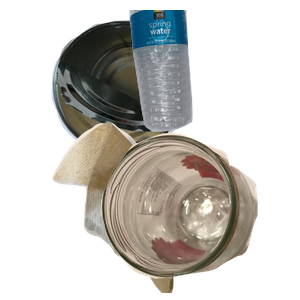glass: (98, 131, 300, 300)
metal: (49, 18, 229, 164)
plastic: (127, 10, 300, 134)
trash: (50, 120, 219, 300)
